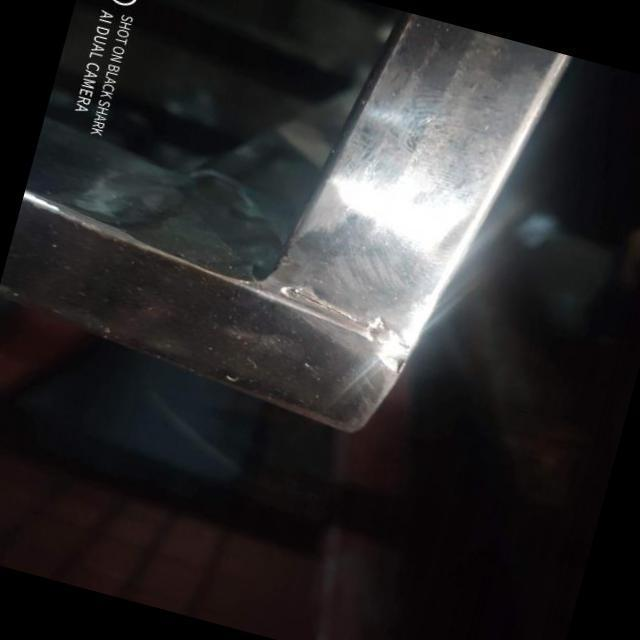defect: (283, 285, 369, 329)
